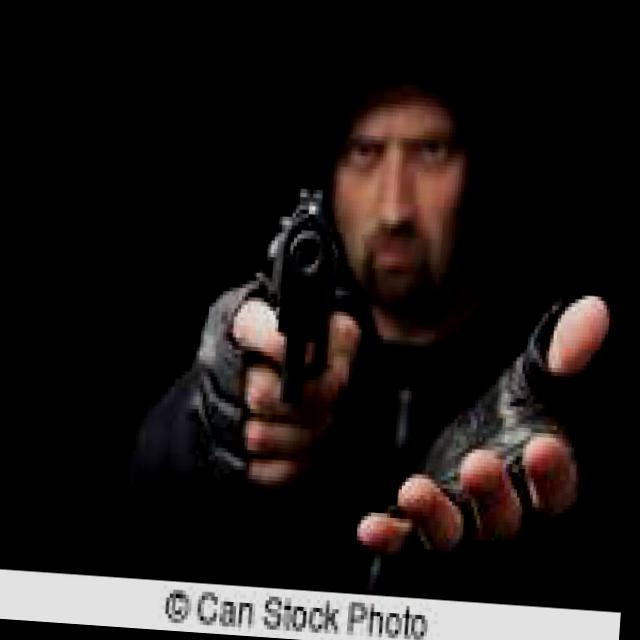handgun: (250, 170, 350, 402)
